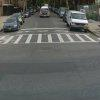Crosswalk: (11, 29, 95, 54)
